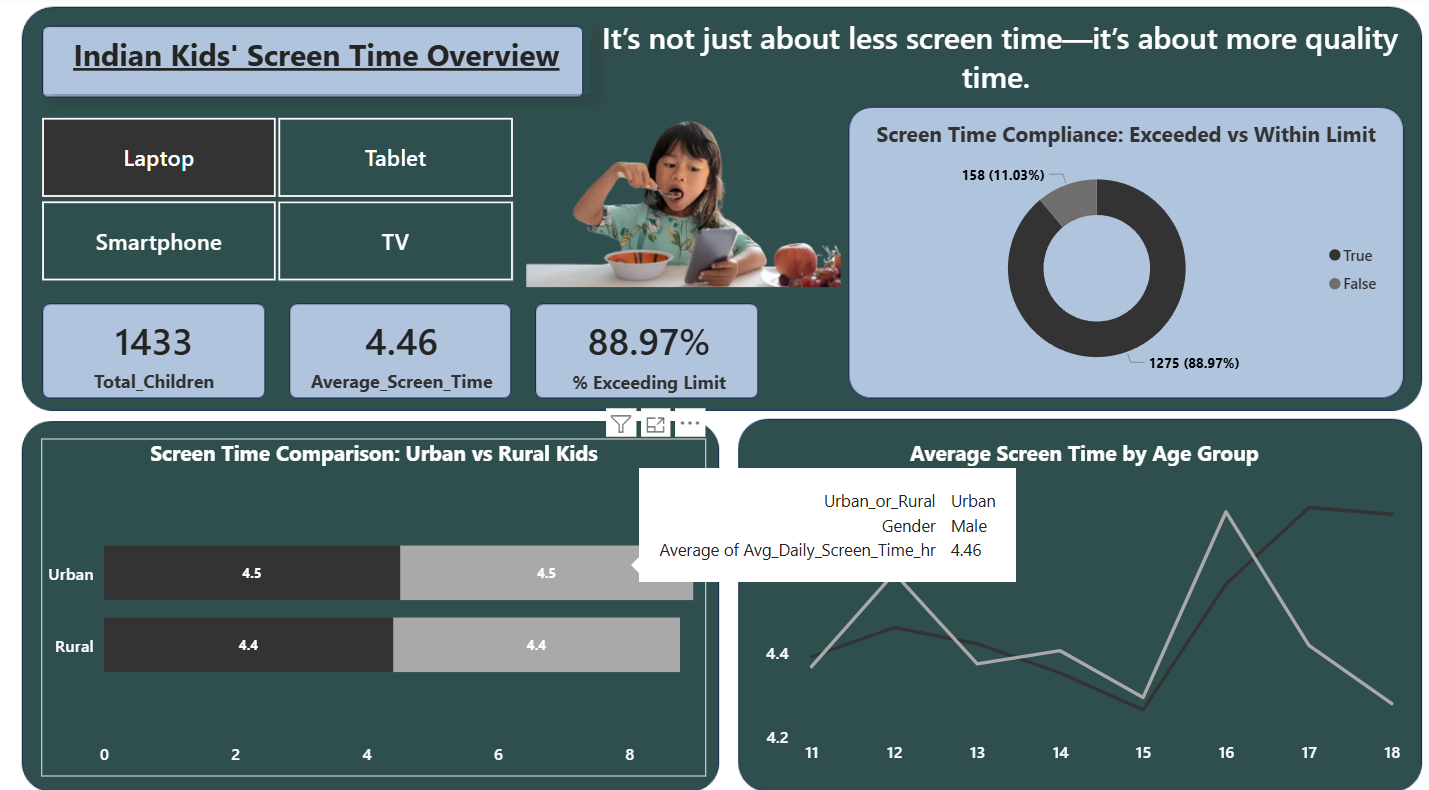

This screenshot's page, from the dashboard's own definition file:
{"tool":"powerbi","page":{"name":" Dashboard Overview","canvas":[1280,720],"ordinal":0},"visuals":[{"type":"barChart","title":"Screen Time Comparison: Urban vs Rural Kids","fields":{"Category":["Table.Urban_or_Rural"],"Y":["Avg(Table.Avg_Daily_Screen_Time_hr)"],"Series":["Table.Gender"]},"box":[36.2,394.5,592.4,301.6],"z":0},{"type":"lineChart","title":"Average Screen Time by Age Group","fields":{"Category":["Table.Age"],"Y":["Avg(Table.Avg_Daily_Screen_Time_hr)"],"Series":["Table.Gender"]},"box":[676.8,394.5,577.9,300.4],"z":1000},{"type":"donutChart","title":" Screen Time Compliance: Exceeded vs Within Limit","fields":{"Category":["Table.Exceeded_Recommended_Limit"],"Y":["Table.Total_Children"]},"box":[766.1,109.8,474.1,240.1],"z":2000},{"type":"slicer","fields":{"Values":["Table.Primary_Device"]},"box":[10.9,101.3,469.3,159.3],"z":3000},{"type":"card","fields":{"Values":["Table.Total_Children"]},"box":[44.5,276.1,185.9,83.5],"z":4000},{"type":"card","fields":{"Values":["Table.Average_Screen_Time"]},"box":[264.9,276.1,185.9,83.5],"z":5000},{"type":"card","fields":{"Values":["Table.Exceeded_Limit_Percentage"]},"box":[479.8,277.2,197,82.4],"z":6000},{"type":"textbox","box":[36.6,29.3,489.9,58.6],"z":7000},{"type":"textbox","box":[526.5,13.4,728.1,88],"z":8000},{"type":"image","box":[463,96.5,290.7,167.4],"z":9000}]}

Visuals, with their boxes in screenshot pixels (x1, y1, x2, y2), scaled from the page's 1280x720 canvas onto the 1429x790 screenshot:
"Screen Time Comparison: Urban vs Rural Kids" barChart: (x1=40, y1=433, x2=702, y2=764)
"Average Screen Time by Age Group" lineChart: (x1=756, y1=433, x2=1401, y2=762)
" Screen Time Compliance: Exceeded vs Within Limit" donutChart: (x1=855, y1=120, x2=1385, y2=384)
slicer - Table.Primary_Device: (x1=12, y1=111, x2=536, y2=286)
card - Table.Total_Children: (x1=50, y1=303, x2=257, y2=395)
card - Table.Average_Screen_Time: (x1=296, y1=303, x2=503, y2=395)
card - Table.Exceeded_Limit_Percentage: (x1=536, y1=304, x2=756, y2=395)
textbox: (x1=41, y1=32, x2=588, y2=96)
textbox: (x1=588, y1=15, x2=1401, y2=111)
image: (x1=517, y1=106, x2=841, y2=290)
